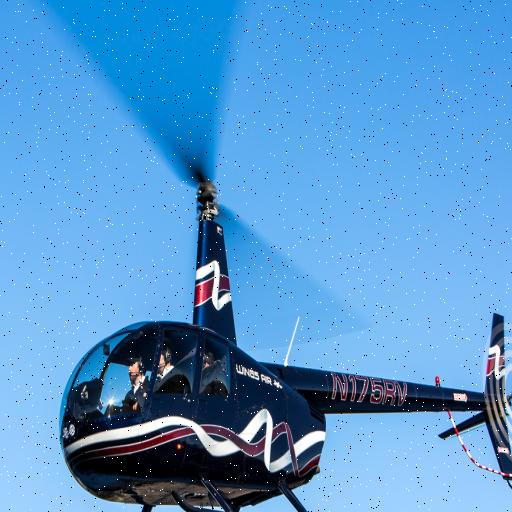helicopter: (61, 1, 512, 512)
